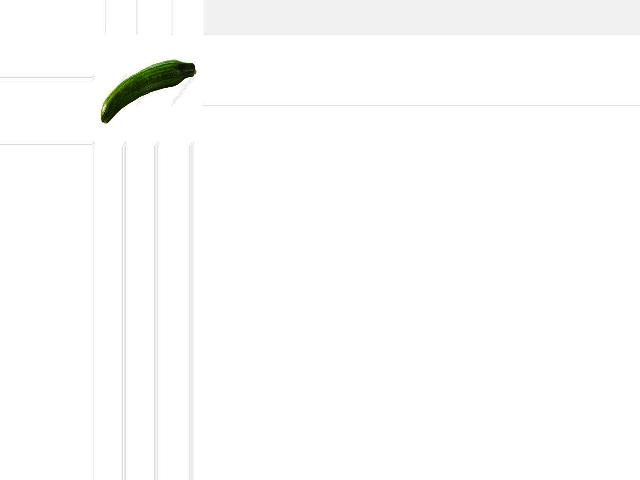cucumber: (101, 60, 196, 124)
